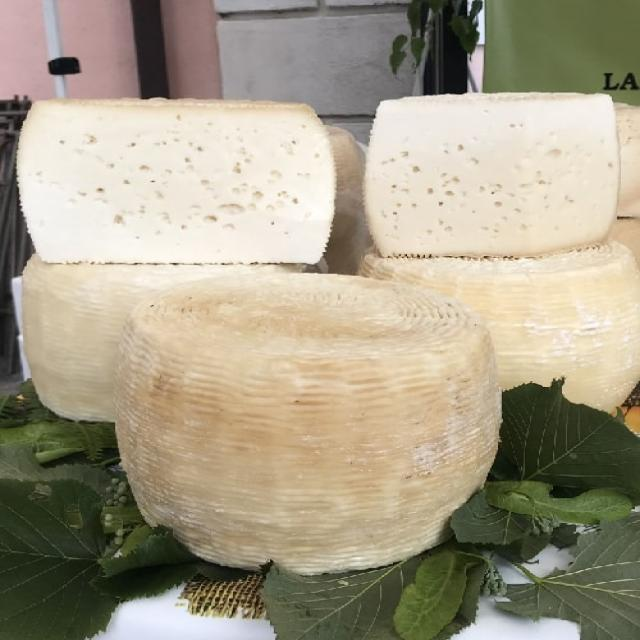Cheese: (85, 280, 530, 565), (306, 42, 638, 298), (3, 85, 382, 298)
